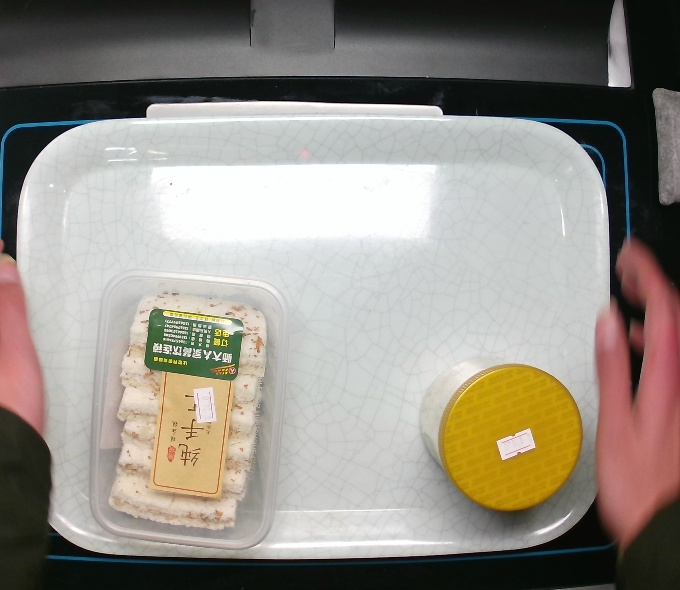wcq-GuiHuaGao: (84, 268, 292, 552)
wcq-MaiYaTang: (416, 356, 584, 512)
